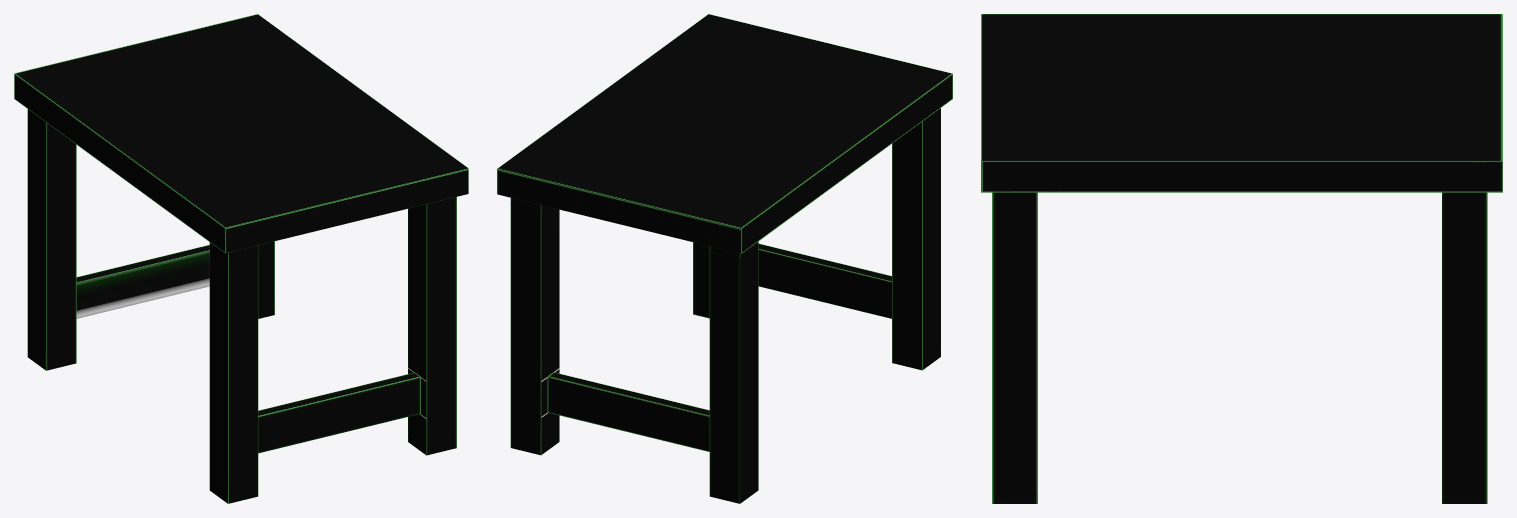
File: desk_test.FBX
3 views of the same model, side by side, from view 1: azimuth 30°, elevation 25°; view 2: azimuth 150°, elevation 25°; view 3: azimuth 270°, elevation 25° (orthographic). The views are drawn at different scales.
Parts seen in each view (by area): view 1: Box003; view 2: Box003; view 3: Box003.
Part boxes in pixels (x1,y1,x2,y2): Box003: (14, 14, 468, 503); Box003: (497, 14, 952, 503); Box003: (981, 14, 1502, 503).
Bounding box in the file's own units: 40.66 × 44.83 × 60.99.
